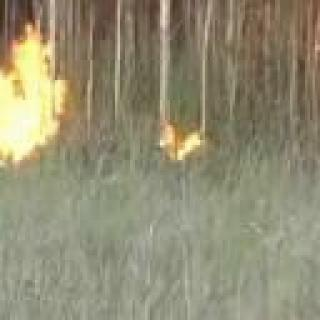fire: (0, 36, 69, 162), (161, 125, 199, 163)
